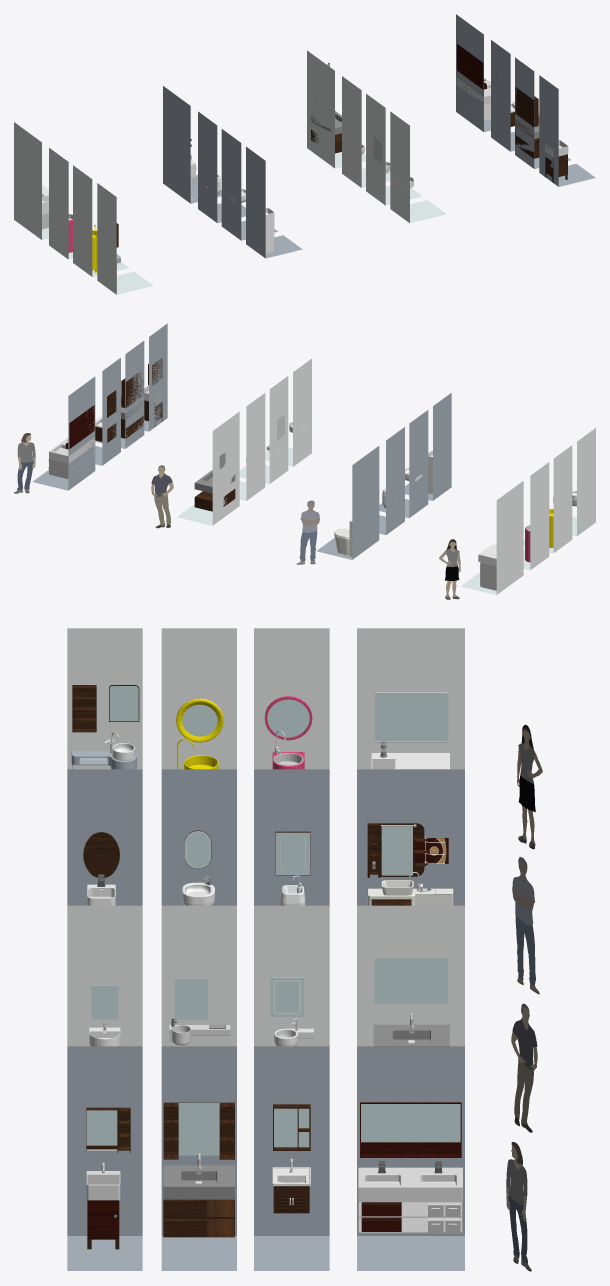
File: washbasin_-.glb
3 renders of one model, top to bottom at view 1: azimuth 30°, elevation 25°; view 2: azimuth 150°, elevation 25°; view 3: azimuth 270°, elevation 25°, orthographic. The views are drawn at different scales.
Visible parts, largest first — view 1: Model, Group142; view 2: Model, Susan1, Group142, Group57, Group8; view 3: Model, Group142, Group56, Group65, Group18, Group149, Group77, Susan1, Group103, Group48, Group87, Group62 (+5 smaller).
Part boxes in pixels (x1=…): Model: x1=14, y1=14, x2=595, y2=294; Group142: x1=456, y1=77, x2=490, y2=119; Model: x1=32, y1=323, x2=595, y2=599; Susan1: x1=14, y1=433, x2=35, y2=493; Group142: x1=49, y1=437, x2=94, y2=478; Group57: x1=480, y1=562, x2=496, y2=590; Group8: x1=334, y1=528, x2=349, y2=555; Model: x1=67, y1=628, x2=542, y2=1270; Group142: x1=358, y1=1167, x2=462, y2=1233; Group56: x1=374, y1=692, x2=448, y2=742; Group65: x1=71, y1=685, x2=139, y2=769; Group18: x1=367, y1=823, x2=448, y2=877; Group149: x1=163, y1=1165, x2=234, y2=1199; Group77: x1=176, y1=698, x2=223, y2=769; Susan1: x1=506, y1=1142, x2=531, y2=1271; Group103: x1=373, y1=1024, x2=449, y2=1046; Group48: x1=275, y1=831, x2=310, y2=875; Group87: x1=270, y1=977, x2=303, y2=1016; Group62: x1=371, y1=753, x2=449, y2=769.
Bounding box in the file's own units: 13688 × 2670 × 6051.
61 materials, 2 textured.
